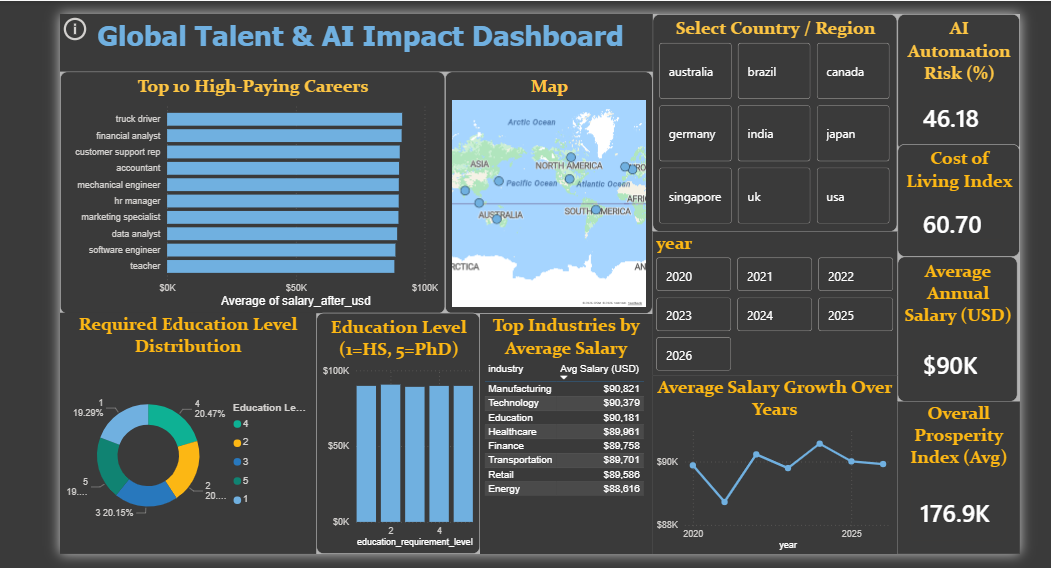

The page's visual inventory and layout, read from the dashboard file:
{"tool":"powerbi","page":{"name":"Page 1","canvas":[1280,720],"ordinal":0},"visuals":[{"type":"advancedSlicerVisual","title":"Select Country / Region","fields":{"Values":["final_ai_analytics_2026.country"]},"box":[790,0,326.7,290],"z":0},{"type":"azureMap","title":"Map","fields":{"Category":["final_ai_analytics_2026.country"]},"box":[513.3,76.7,276.7,323.3],"z":1000},{"type":"cardVisual","title":"Average Annual Salary (USD)","fields":{"Data":["Avg(final_ai_analytics_2026.salary_after_usd)"]},"box":[1116.7,323.3,160,193.3],"z":2000},{"type":"clusteredBarChart","title":"Top 10 High-Paying Careers ","fields":{"Category":["final_ai_analytics_2026.job_role"],"Y":["Avg(final_ai_analytics_2026.salary_after_usd)"]},"box":[0,76.7,513.3,323.3],"z":3000},{"type":"cardVisual","title":"AI Automation Risk (%)","fields":{"Data":["Avg(final_ai_analytics_2026.automation_risk_percent)"]},"box":[1116.7,0,163.3,183.3],"z":4000},{"type":"textbox","box":[0,0,790,76.7],"z":5000},{"type":"cardVisual","title":"Cost of Living Index","fields":{"Data":["Avg(final_ai_analytics_2026.cost_of_living_index)"]},"box":[1116.7,173.3,163.3,150],"z":6000},{"type":"clusteredColumnChart","title":"Education Level (1=HS, 5=PhD)","fields":{"Y":["Avg(final_ai_analytics_2026.salary_after_usd)"],"Category":["final_ai_analytics_2026.education_requirement_level"]},"box":[341.7,398.3,218.3,321.7],"z":7000},{"type":"tableEx","title":"Top Industries by Average Salary","fields":{"Values":["final_ai_analytics_2026.industry","Avg(final_ai_analytics_2026.salary_after_usd)"]},"box":[560,400,230,320],"z":8000},{"type":"actionButton","box":[0,0,100,40],"z":9000},{"type":"cardVisual","title":"Overall Prosperity Index (Avg)","fields":{"Data":["final_ai_analytics_2026.WorkLife_Avg"]},"box":[1116.7,516.7,163.3,203.3],"z":10000},{"type":"donutChart","title":"Required Education Level Distribution","fields":{"Y":["CountNonNull(final_ai_analytics_2026.job_id)"],"Category":["final_ai_analytics_2026.education_requirement_level"]},"box":[0,398.3,341.7,321.7],"z":11000},{"type":"advancedSlicerVisual","fields":{"Values":["final_ai_analytics_2026.year"]},"box":[790,290,326.7,191.7],"z":12000},{"type":"lineChart","title":"Average Salary Growth Over Years","fields":{"Category":["final_ai_analytics_2026.year"],"Y":["Avg(final_ai_analytics_2026.salary_after_usd)"]},"box":[790,481.7,326.7,238.3],"z":13000}]}

Visuals, with their boxes in screenshot pixels (x1, y1, x2, y2):
"Select Country / Region" advancedSlicerVisual: pyautogui.locateOnScreen(649, 11, 895, 229)
"Map" azureMap: pyautogui.locateOnScreen(441, 69, 649, 312)
"Average Annual Salary (USD)" cardVisual: pyautogui.locateOnScreen(895, 254, 1015, 399)
"Top 10 High-Paying Careers " clusteredBarChart: pyautogui.locateOnScreen(55, 69, 441, 312)
"AI Automation Risk (%)" cardVisual: pyautogui.locateOnScreen(895, 11, 1017, 149)
textbox: pyautogui.locateOnScreen(55, 11, 649, 69)
"Cost of Living Index" cardVisual: pyautogui.locateOnScreen(895, 141, 1017, 254)
"Education Level (1=HS, 5=PhD)" clusteredColumnChart: pyautogui.locateOnScreen(312, 311, 476, 552)
"Top Industries by Average Salary" tableEx: pyautogui.locateOnScreen(476, 312, 649, 552)
actionButton: pyautogui.locateOnScreen(55, 11, 130, 41)
"Overall Prosperity Index (Avg)" cardVisual: pyautogui.locateOnScreen(895, 400, 1017, 552)
"Required Education Level Distribution" donutChart: pyautogui.locateOnScreen(55, 311, 312, 552)
advancedSlicerVisual - final_ai_analytics_2026.year: pyautogui.locateOnScreen(649, 229, 895, 373)
"Average Salary Growth Over Years" lineChart: pyautogui.locateOnScreen(649, 373, 895, 552)
